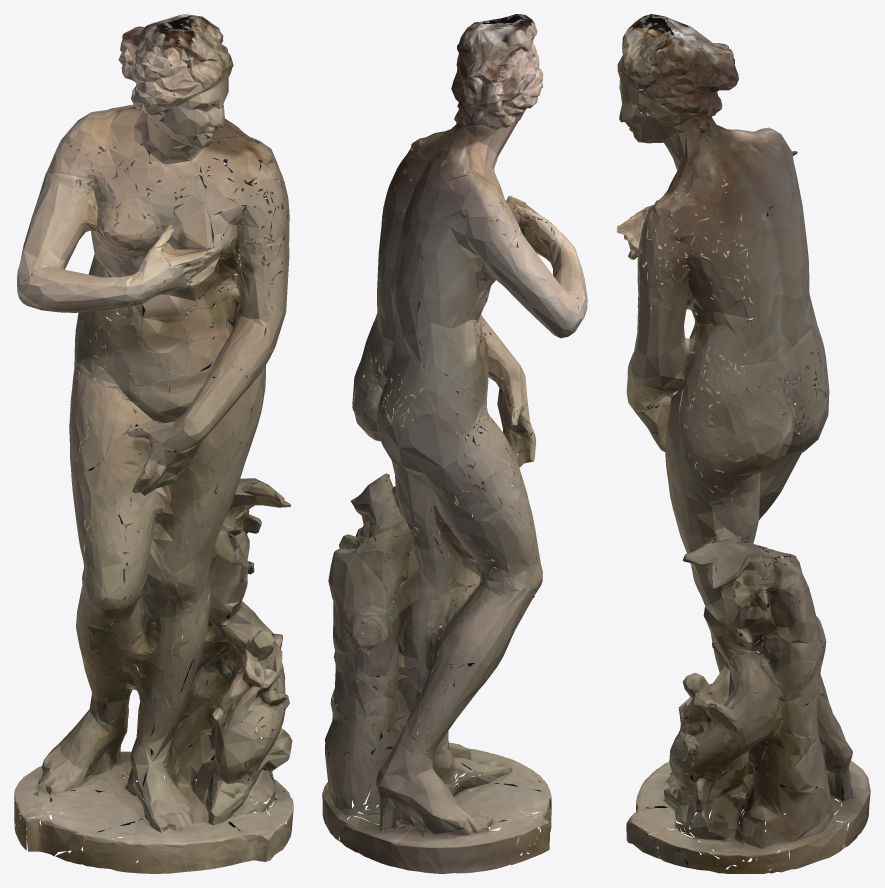
The model's file is art-07.glb.
The picture shows the model from 3 angles, left to right: view 1: azimuth 30°, elevation 25°; view 2: azimuth 150°, elevation 25°; view 3: azimuth 270°, elevation 25°; orthographic projection. The views are drawn at different scales.
Parts seen in each view (by area): view 1: art-07 (×4); view 2: art-07 (×4); view 3: art-07 (×4).
Part boxes in pixels (x1,y1,x2,y2): art-07 (×4): (14, 14, 293, 873); art-07 (×4): (322, 14, 587, 873); art-07 (×4): (616, 14, 870, 873).
Size of the model in its own units: 5.21 by 16.14 by 4.72.
1 material, 1 textured.
